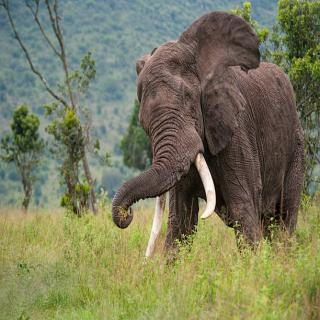Elephant: (108, 4, 310, 266)
